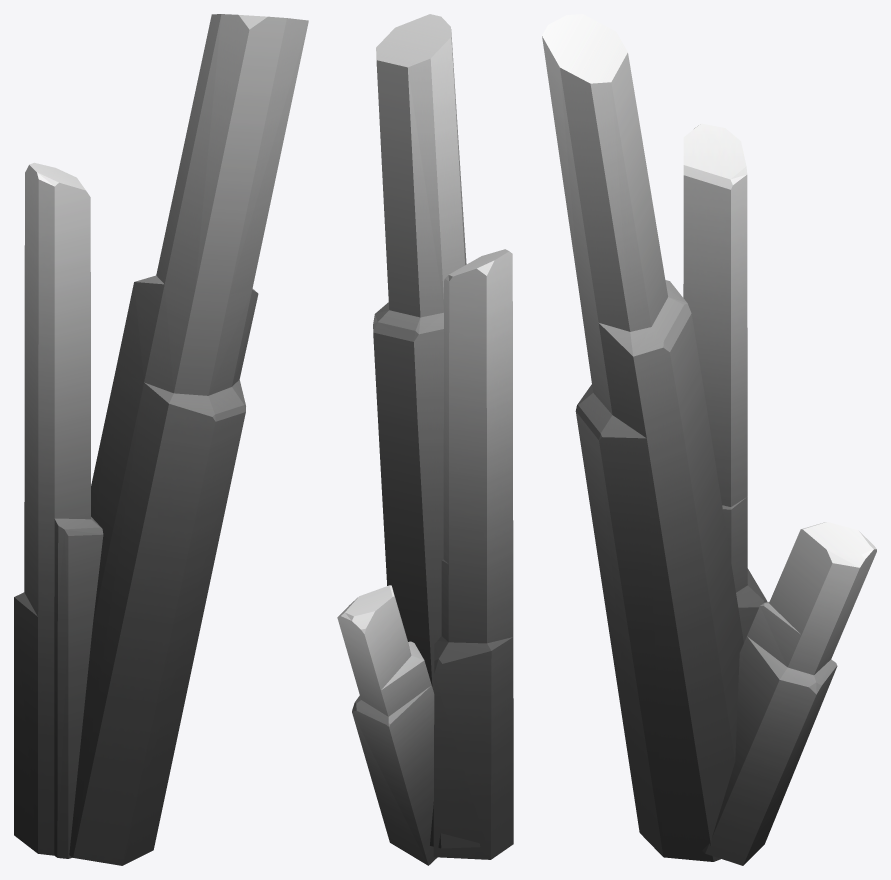
Rendered from CrystalCubeCluster_C.fbx.
3 renders of one model, left to right at view 1: azimuth 30°, elevation 25°; view 2: azimuth 150°, elevation 25°; view 3: azimuth 270°, elevation 25°, orthographic. The views are drawn at different scales.
Visible parts, largest first — view 1: CrystalCubeCluster_C; view 2: CrystalCubeCluster_C; view 3: CrystalCubeCluster_C.
Part boxes in pixels (x1,y1,x2,y2): CrystalCubeCluster_C: (14,14,308,865); CrystalCubeCluster_C: (337,14,513,865); CrystalCubeCluster_C: (542,14,876,865).
Bounding box in the file's own units: 171 × 678 × 238.
Materials: 1 (1 with a texture image).
